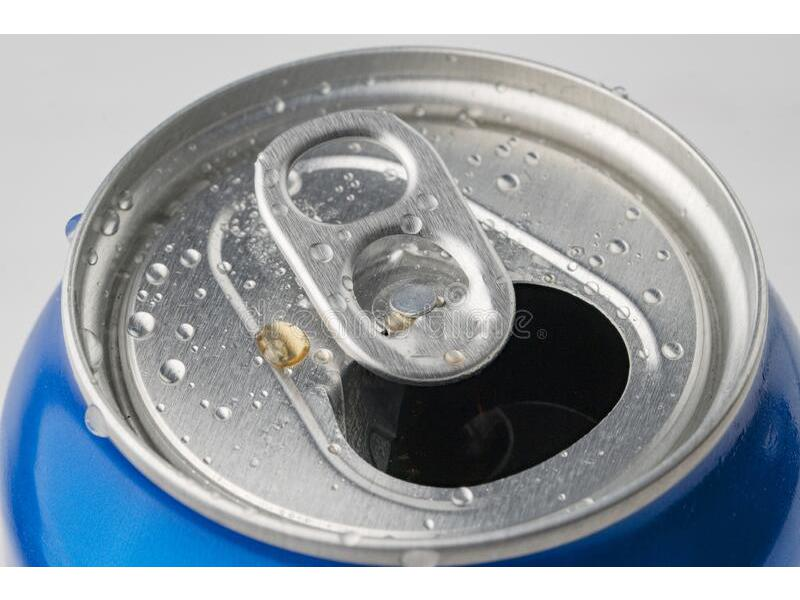can: (11, 39, 799, 568)
